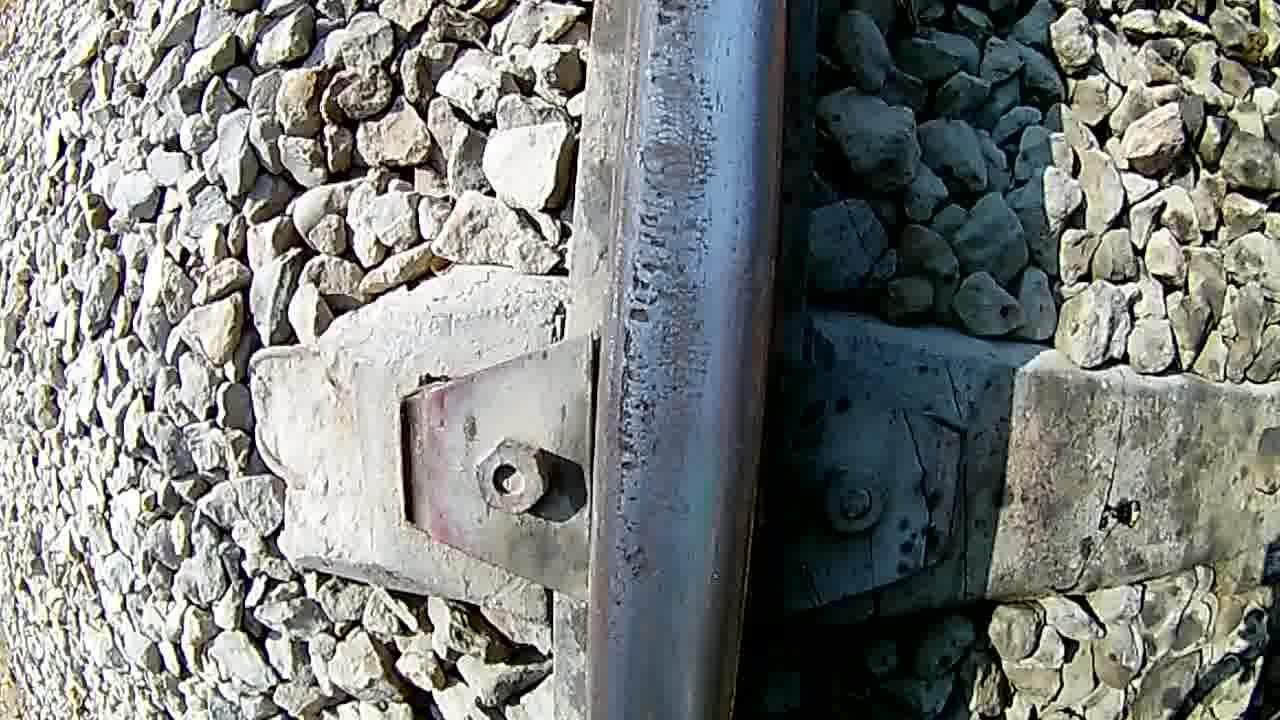crack: (598, 0, 780, 720)
